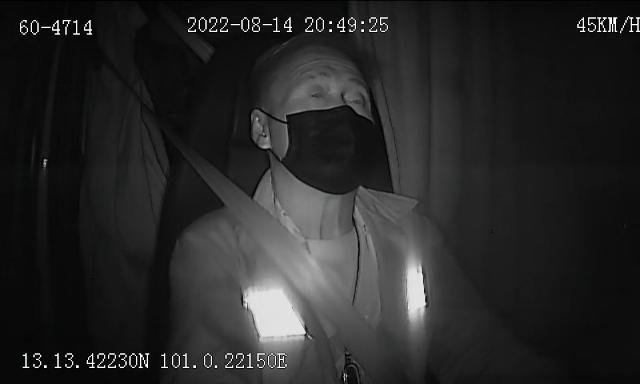Seatbelt: (186, 152, 384, 384)
